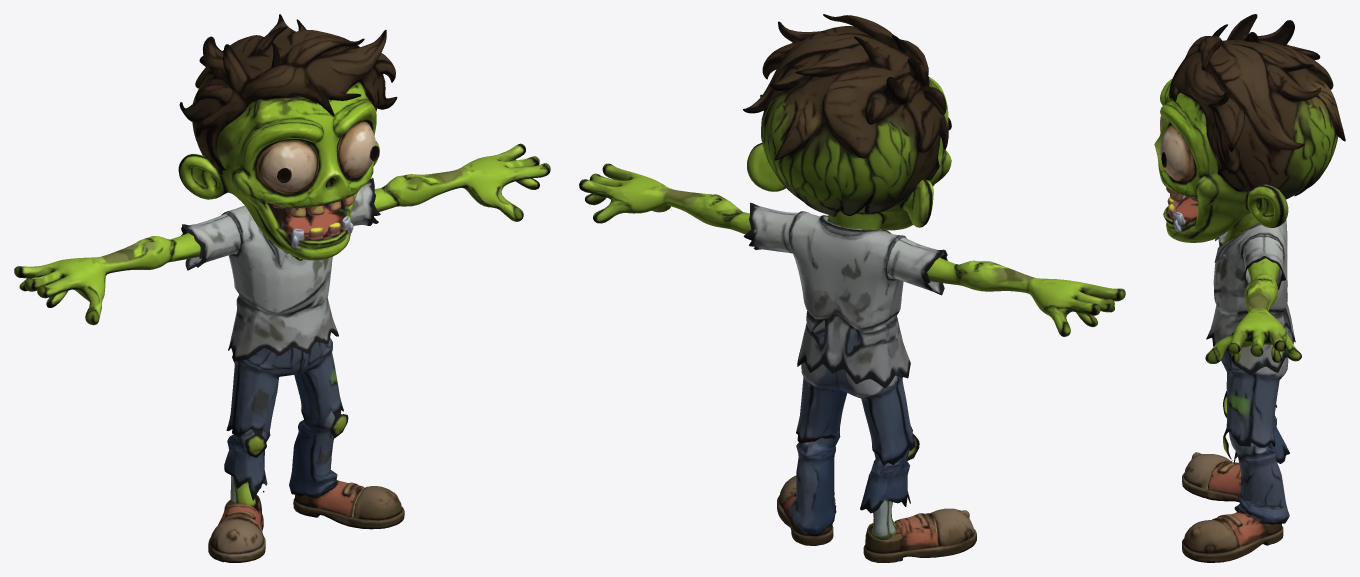
Rendered from Zombie.glb.
3 views of the same model, side by side, from view 1: azimuth 30°, elevation 25°; view 2: azimuth 150°, elevation 25°; view 3: azimuth 270°, elevation 25° (orthographic). The views are drawn at different scales.
Visible parts, largest first — view 1: world; view 2: world; view 3: world.
Boxes of the visible parts, bbox=[...] form: world: bbox=[14, 14, 550, 562]; world: bbox=[579, 14, 1125, 562]; world: bbox=[1154, 14, 1345, 562].
Size of the model in its own units: 1 by 0.9239 by 0.3302.
1 material, 1 textured.
